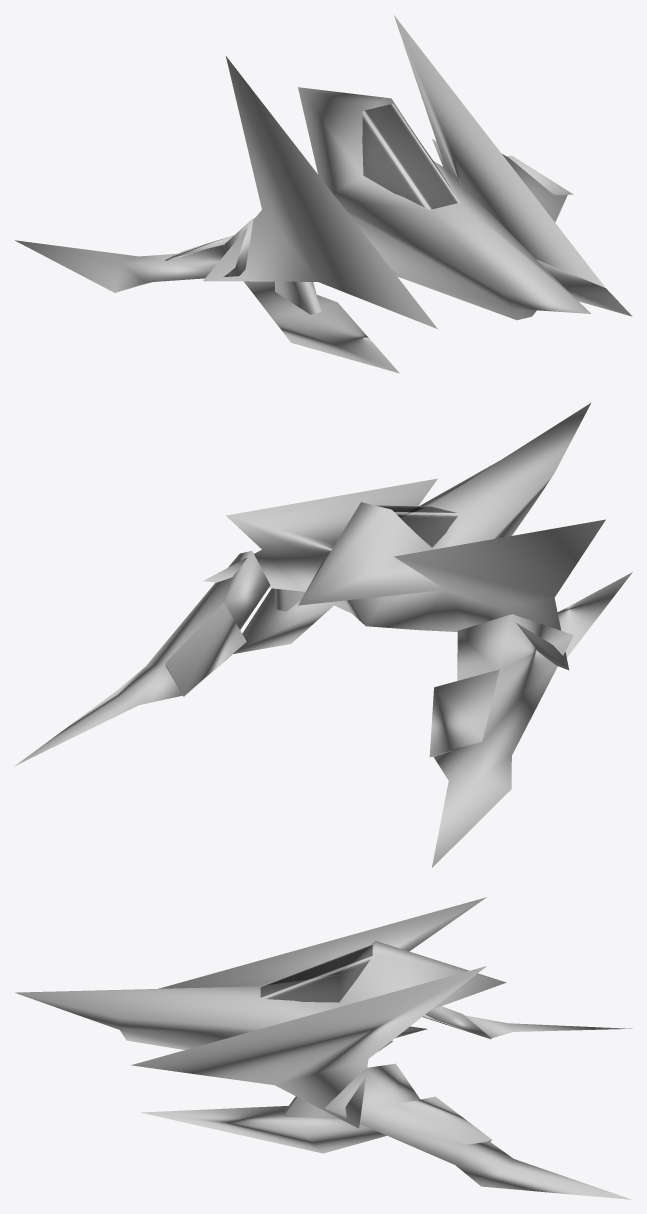
Rendered from arwingNew31.obj.
3 views of the same model, one above another, from view 1: azimuth 30°, elevation 25°; view 2: azimuth 150°, elevation 25°; view 3: azimuth 270°, elevation 25° (orthographic). The views are drawn at different scales.
Parts seen in each view (by area): view 1: Arwing.002; view 2: Arwing.002; view 3: Arwing.002.
Part boxes in pixels (x1,y1,x2,y2): Arwing.002: (15,15,632,373); Arwing.002: (14,403,632,867); Arwing.002: (15,897,632,1199).
Size of the model in its own units: 4.31 by 2.15 by 6.59.
